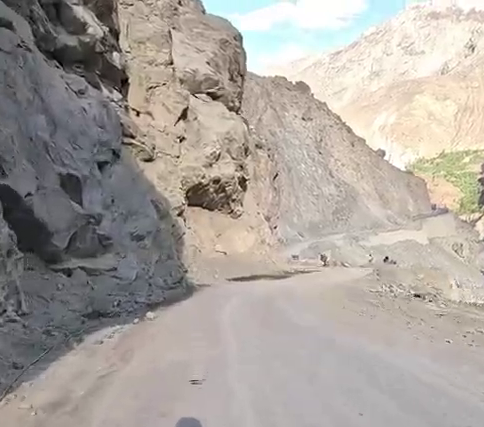unexpected: (236, 181, 480, 338)
